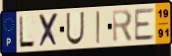E: (134, 7, 156, 43)
I: (95, 10, 102, 45)
L: (18, 15, 36, 48)
R: (112, 8, 134, 45)
U: (65, 11, 85, 47)
X: (38, 12, 60, 49)
